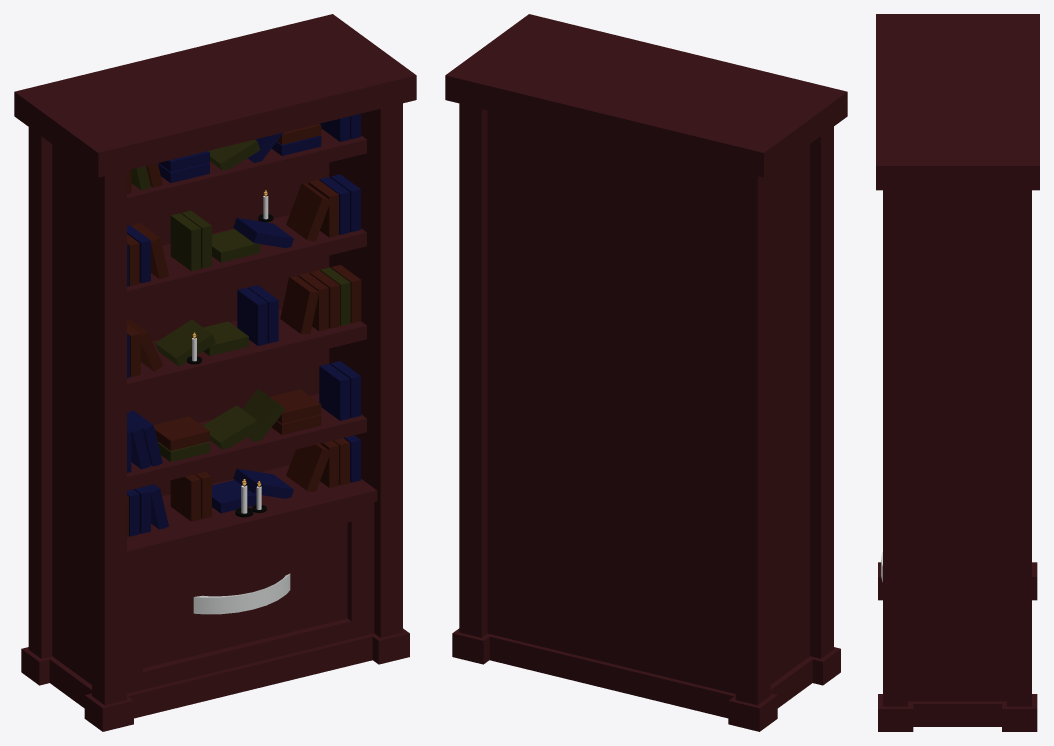
Rendered from ClosetModel.fbx.
3 views of the same model, side by side, from view 1: azimuth 30°, elevation 25°; view 2: azimuth 150°, elevation 25°; view 3: azimuth 270°, elevation 25° (orthographic). The views are drawn at different scales.
Parts seen in each view (by area): view 1: Cube.001, Cube.006, Cube.008, Cube.002, Cube.004, Cylinder, Cube.049, Cube.043, Cube.035, Cube.034, Cube.053, Cube.041 (+28 smaller); view 2: Cube.001, Cube.004, Cube.008, Cube.006; view 3: Cube.001, Cube.008, Cube.006, Cube.004.
Part boxes in pixels (bbox=[...]): Cube.001: bbox=[52, 110, 377, 693]; Cube.006: bbox=[84, 103, 409, 731]; Cube.008: bbox=[14, 14, 416, 177]; Cube.002: bbox=[127, 128, 366, 490]; Cube.004: bbox=[21, 127, 91, 708]; Cylinder: bbox=[193, 573, 290, 614]; Cube.049: bbox=[286, 183, 330, 241]; Cube.043: bbox=[280, 276, 318, 333]; Cube.035: bbox=[155, 319, 215, 366]; Cube.034: bbox=[203, 405, 259, 449]; Cube.053: bbox=[170, 213, 200, 271]; Cube.041: bbox=[237, 287, 267, 345]; Cube.001: bbox=[487, 110, 809, 693]; Cube.004: bbox=[452, 103, 813, 731]; Cube.008: bbox=[445, 14, 847, 177]; Cube.006: bbox=[809, 127, 840, 685]; Cube.001: bbox=[908, 190, 1006, 701]; Cube.008: bbox=[876, 14, 1039, 190]; Cube.006: bbox=[878, 190, 1004, 731]; Cube.004: bbox=[1002, 190, 1037, 731].
Bounding box in the file's own units: 231 × 402 × 105.
